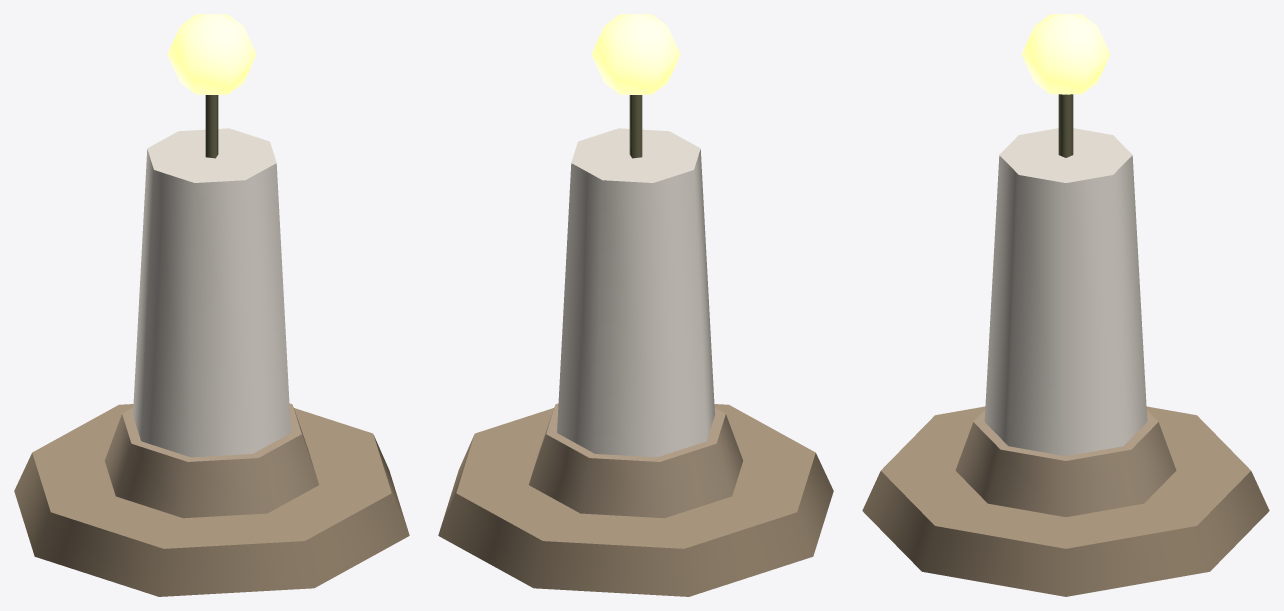
File: candle.glb
The picture shows the model from 3 angles, left to right: view 1: azimuth 30°, elevation 25°; view 2: azimuth 150°, elevation 25°; view 3: azimuth 270°, elevation 25°; orthographic projection.
Visible parts, largest first — view 1: wax, dish, holder, flame-outer, wick; view 2: wax, dish, holder, flame-outer, wick; view 3: wax, dish, holder, flame-outer, wick.
Part boxes in pixels (x1=…): wax: x1=133, y1=128, x2=290, y2=457; dish: x1=14, y1=404, x2=409, y2=596; holder: x1=104, y1=403, x2=318, y2=518; flame-outer: x1=167, y1=14, x2=256, y2=94; wick: x1=205, y1=95, x2=218, y2=158; wax: x1=557, y1=128, x2=714, y2=457; dish: x1=438, y1=404, x2=833, y2=596; holder: x1=529, y1=403, x2=743, y2=518; flame-outer: x1=591, y1=14, x2=680, y2=94; wick: x1=629, y1=95, x2=642, y2=158; wax: x1=984, y1=128, x2=1147, y2=456; dish: x1=862, y1=406, x2=1269, y2=596; holder: x1=955, y1=410, x2=1176, y2=517; flame-outer: x1=1021, y1=14, x2=1110, y2=94; wick: x1=1058, y1=94, x2=1073, y2=157.
Bounding box in the file's own units: 0.11 × 0.148 × 0.11.
